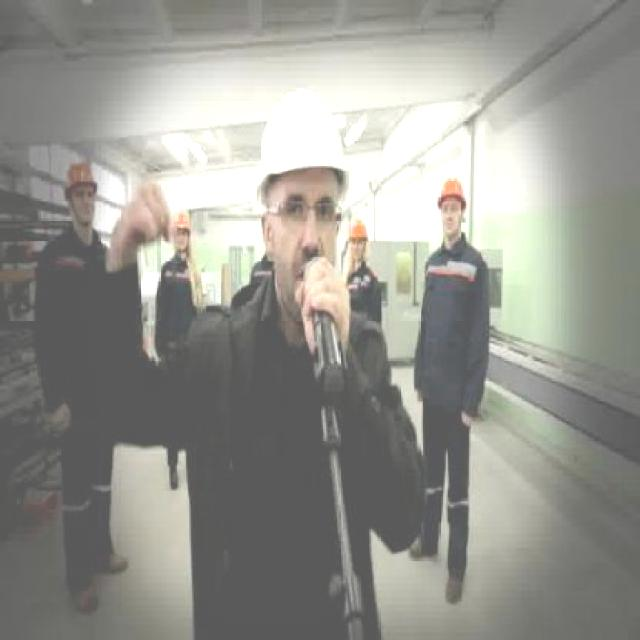Helmet: (253, 84, 349, 210), (64, 157, 98, 196), (434, 174, 468, 208), (346, 218, 368, 244), (172, 212, 190, 234)
Mask: (32, 222, 118, 596), (413, 233, 492, 579), (148, 250, 208, 364), (341, 254, 388, 340)
